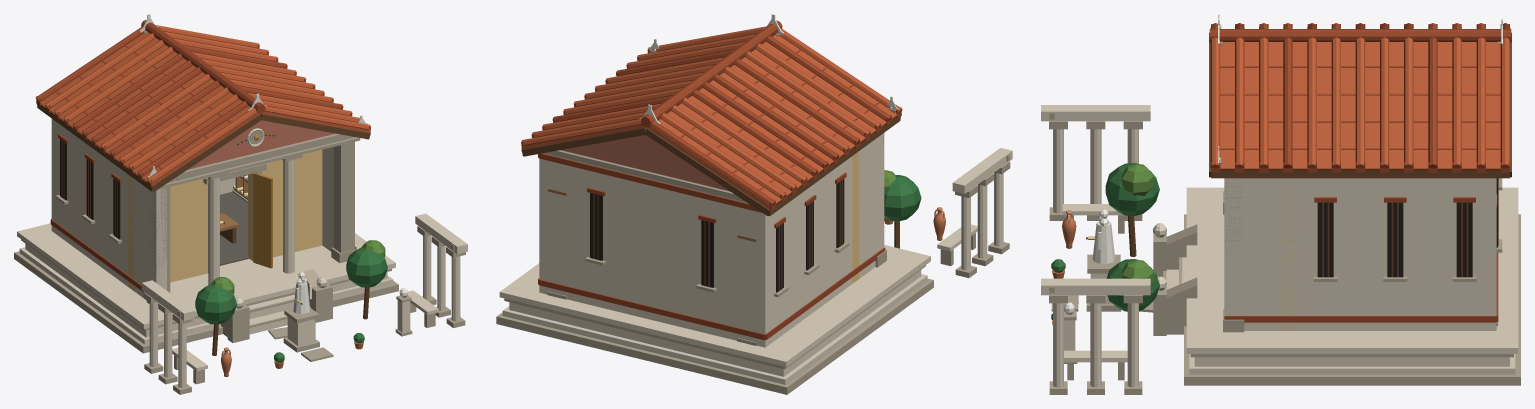
Rendered from Bibliothek.fbx.
3 views of the same model, side by side, from view 1: azimuth 30°, elevation 25°; view 2: azimuth 150°, elevation 25°; view 3: azimuth 270°, elevation 25° (orthographic). The views are drawn at different scales.
Visible parts, largest first — view 1: Bibliothek_0; view 2: Bibliothek_0; view 3: Bibliothek_0.
Boxes of the visible parts, x1,y1,x2,y2 form: Bibliothek_0: (14, 14, 467, 394); Bibliothek_0: (496, 14, 1012, 394); Bibliothek_0: (1041, 14, 1520, 394).
Size of the model in its own units: 3.22 by 2.35 by 3.59.
